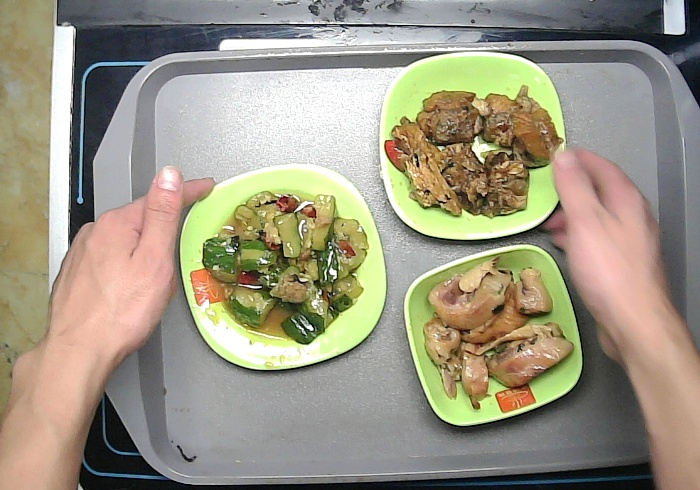SHKJ-Lv_Se_Cai_Die: (378, 51, 567, 239)
SHKJ-Lv_Se_Si_Fang_Cai_Die: (177, 162, 389, 370)
SHKJ-Lv_Se_Xiao_Fang_Die: (402, 242, 586, 428)
